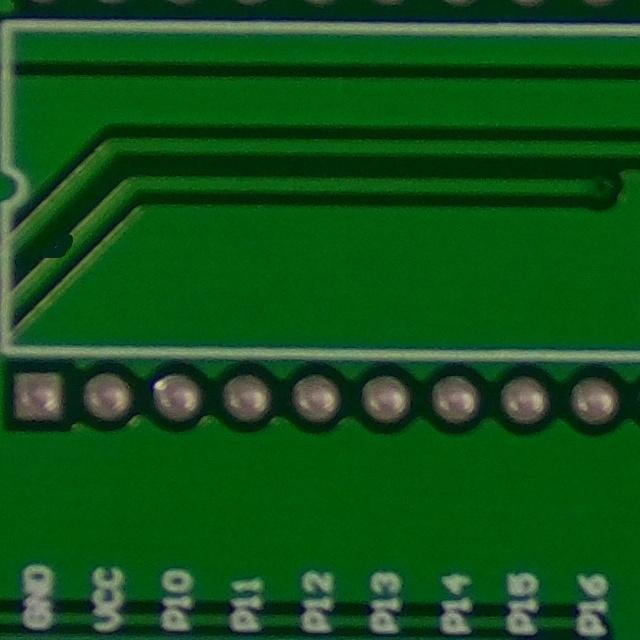mouse_bite: (31, 225, 88, 274)
